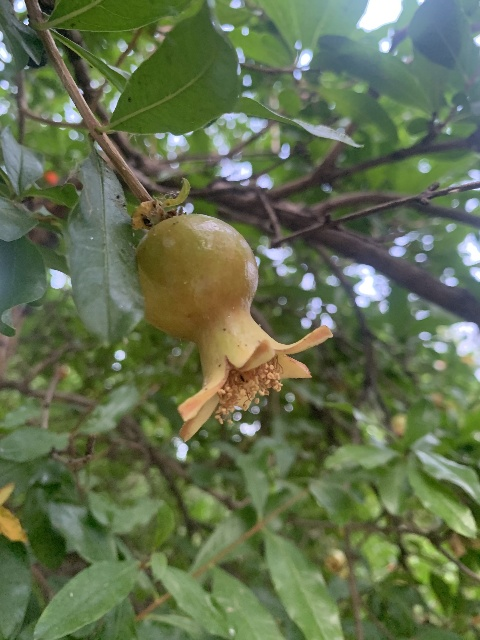mid-growth: (136, 213, 333, 443)
